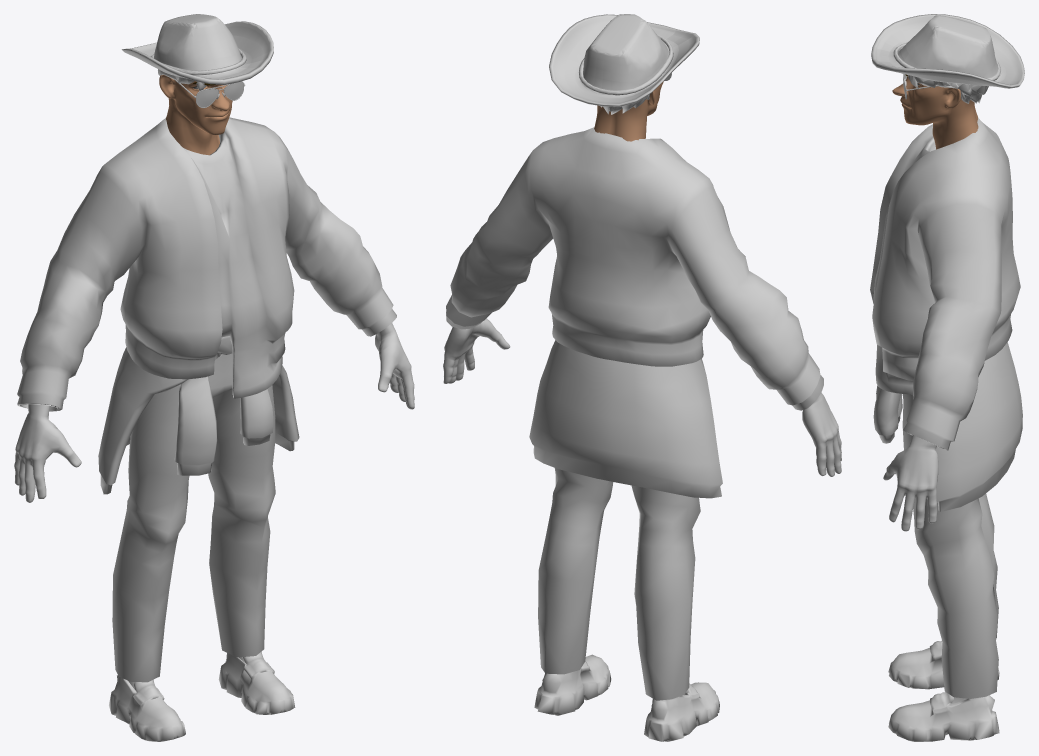
File: M Character 12.fbx
3 renders of one model, left to right at view 1: azimuth 30°, elevation 25°; view 2: azimuth 150°, elevation 25°; view 3: azimuth 270°, elevation 25°, orthographic.
Visible parts, largest first — view 1: Wolf3D_Outfit_Top.002, Wolf3D_Outfit_Bottom.002, Wolf3D_Headwear.003, Wolf3D_Outfit_Footwear.006, m_body.001, m_head, Wolf3D_Glasses.003; view 2: Wolf3D_Outfit_Top.002, Wolf3D_Outfit_Bottom.002, Wolf3D_Headwear.003, Wolf3D_Outfit_Footwear.006, m_body.001, m_head; view 3: Wolf3D_Outfit_Top.002, Wolf3D_Outfit_Bottom.002, Wolf3D_Headwear.003, Wolf3D_Outfit_Footwear.006, m_body.001, m_head.
Part boxes in pixels (bbox=[...]): Wolf3D_Outfit_Top.002: bbox=[17, 117, 396, 494]; Wolf3D_Outfit_Bottom.002: bbox=[112, 353, 275, 682]; Wolf3D_Headwear.003: bbox=[122, 14, 273, 90]; Wolf3D_Outfit_Footwear.006: bbox=[109, 651, 295, 741]; m_body.001: bbox=[14, 323, 414, 502]; m_head: bbox=[159, 74, 232, 155]; Wolf3D_Glasses.003: bbox=[174, 79, 245, 108]; Wolf3D_Outfit_Top.002: bbox=[446, 127, 823, 498]; Wolf3D_Outfit_Bottom.002: bbox=[538, 468, 700, 700]; Wolf3D_Headwear.003: bbox=[549, 14, 699, 114]; Wolf3D_Outfit_Footwear.006: bbox=[534, 654, 719, 741]; m_body.001: bbox=[443, 318, 841, 476]; m_head: bbox=[594, 81, 663, 141]; Wolf3D_Outfit_Top.002: bbox=[870, 118, 1022, 511]; Wolf3D_Outfit_Bottom.002: bbox=[902, 394, 998, 698]; Wolf3D_Headwear.003: bbox=[871, 14, 1024, 103]; Wolf3D_Outfit_Footwear.006: bbox=[888, 640, 999, 741]; m_body.001: bbox=[883, 435, 938, 531]; m_head: bbox=[892, 74, 978, 149].
Size of the model in its own units: 117 by 201 by 41.04.
